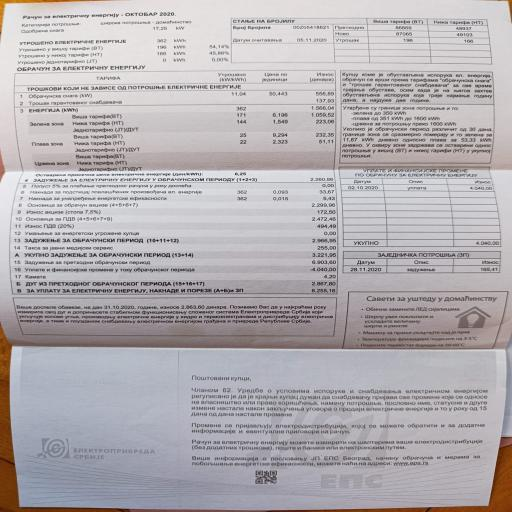racun_za_struju: (11, 63, 340, 183)
